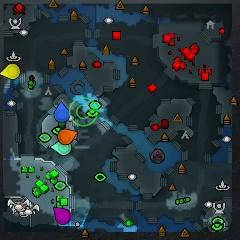p1: (54, 101, 71, 122)
p2: (51, 141, 72, 154)
p3: (53, 206, 71, 225)
p4: (0, 63, 21, 78)
p5: (58, 129, 78, 145)
